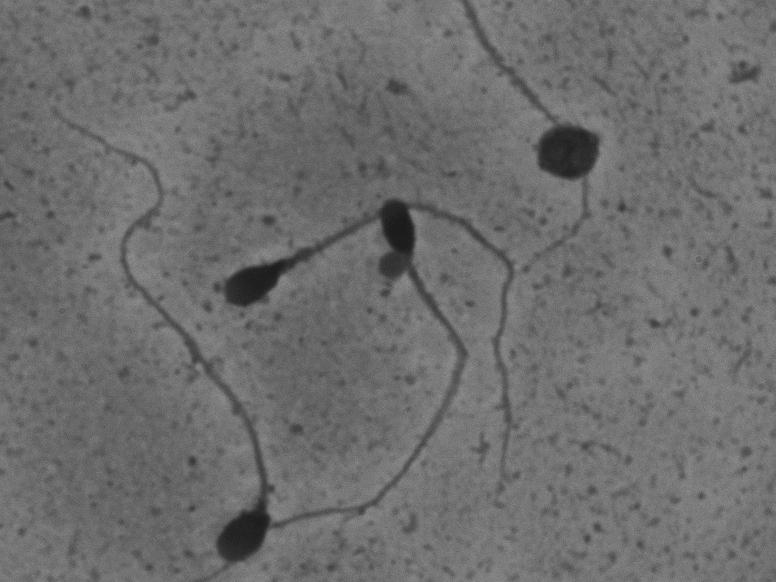Abnormal: (45, 98, 275, 570), (217, 183, 538, 514)
